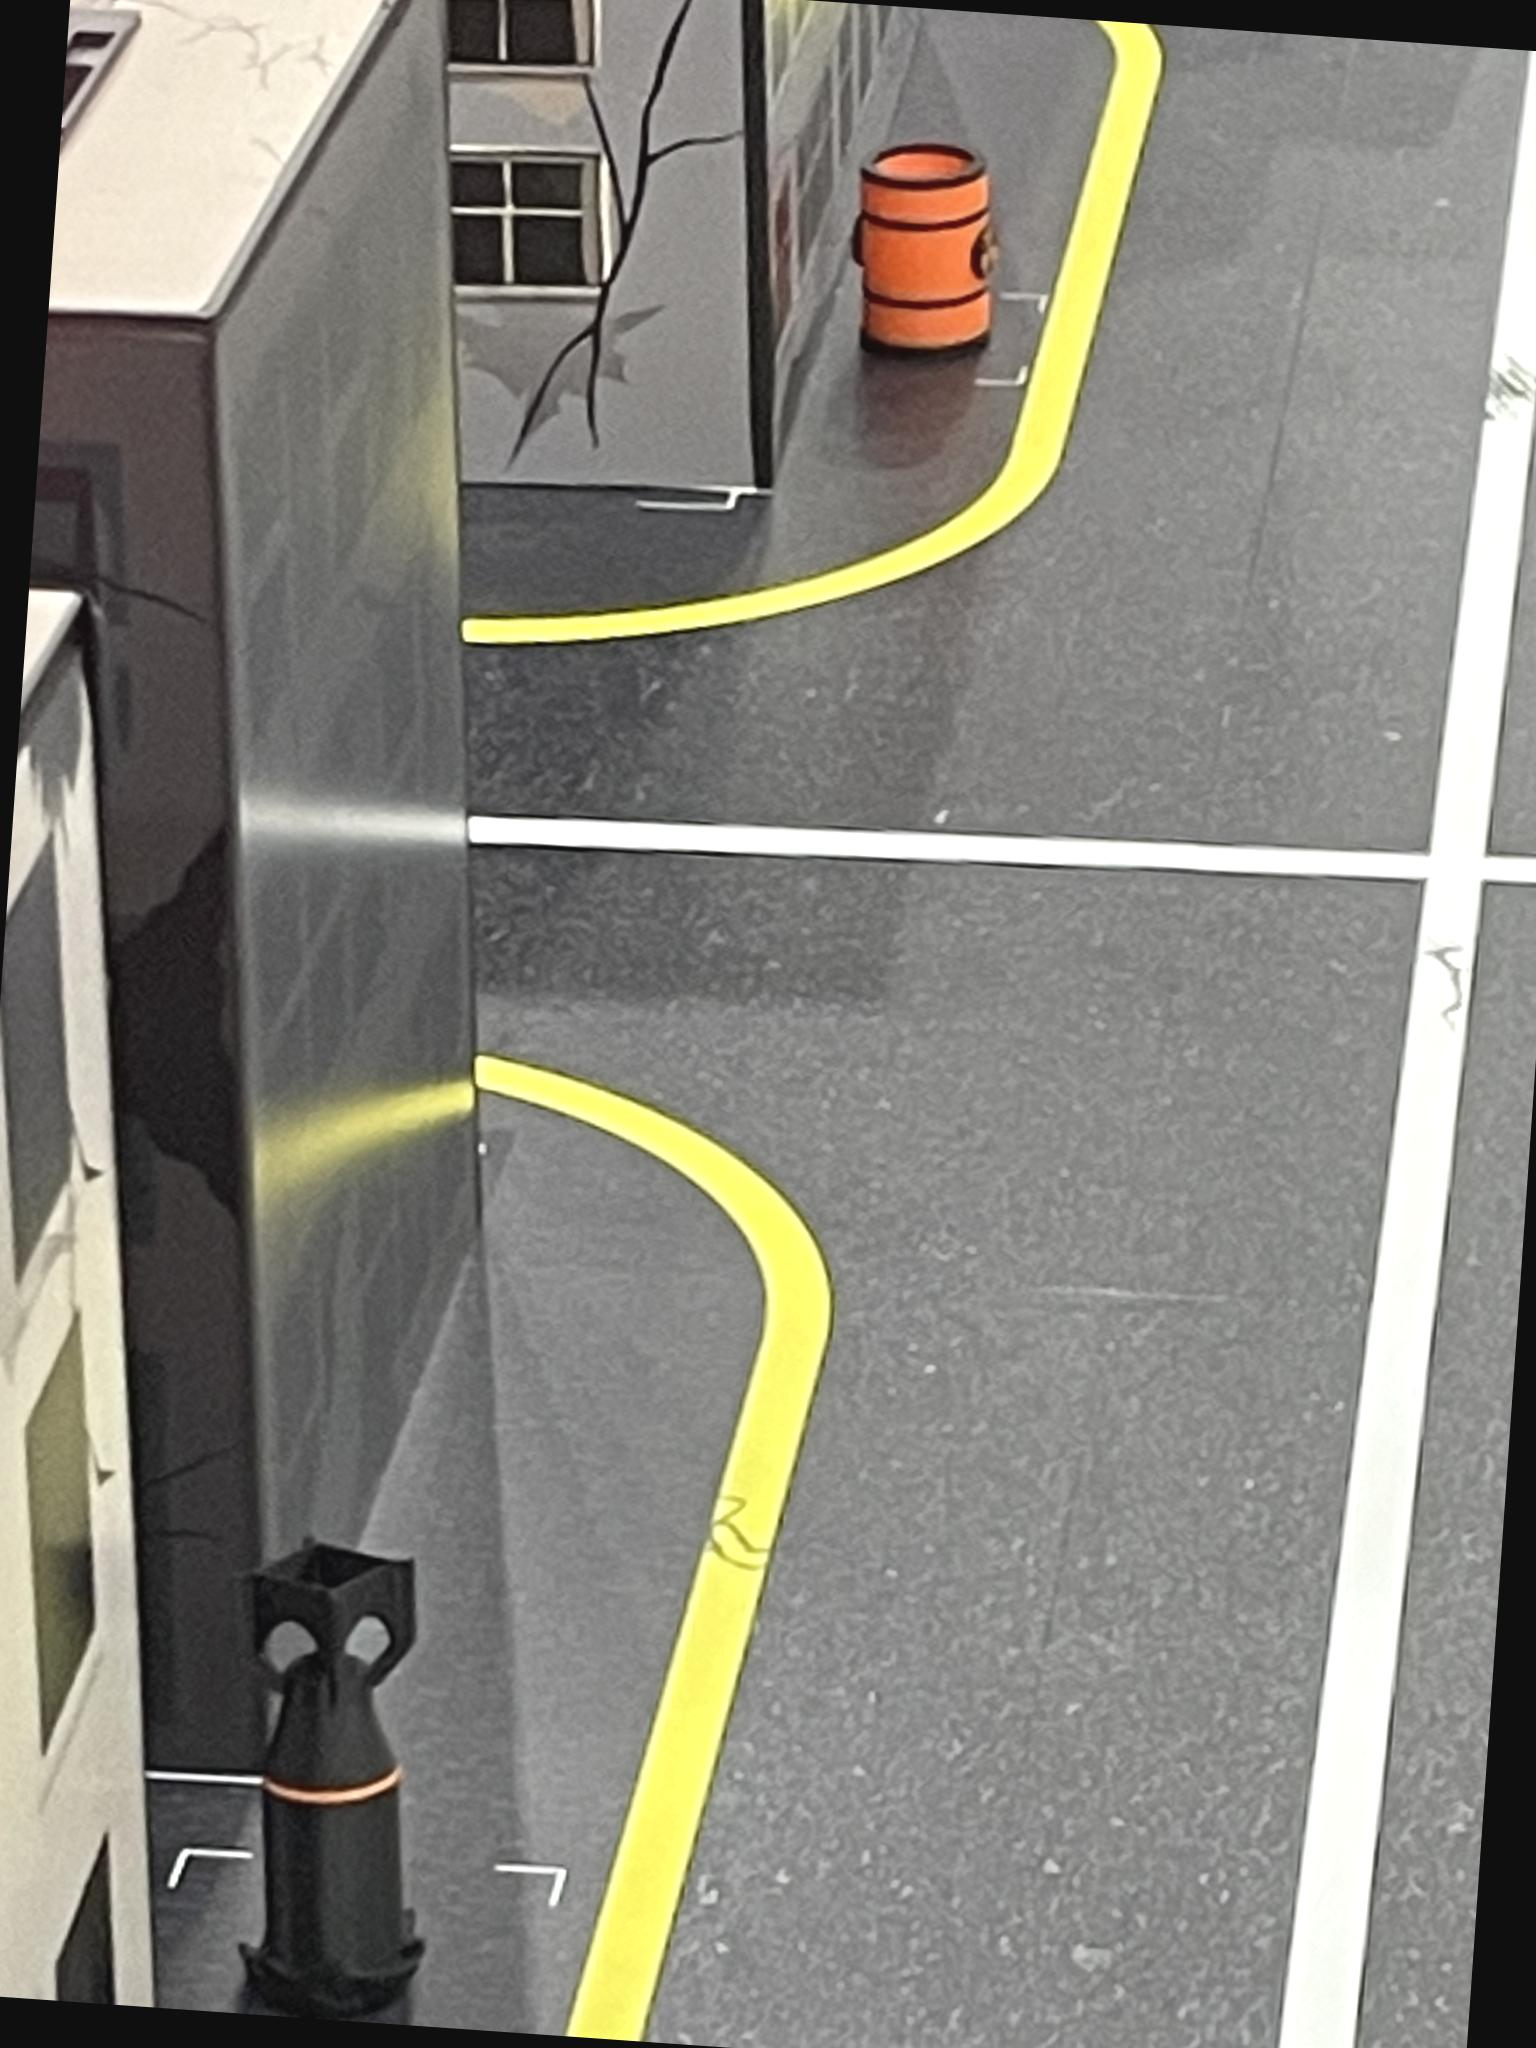Hazmat: (841, 131, 1016, 389)
Missile: (202, 1529, 476, 2027)
